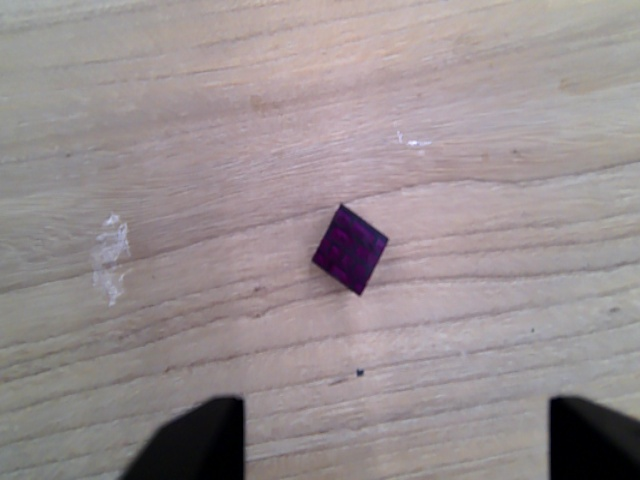brick: (303, 203, 395, 299)
